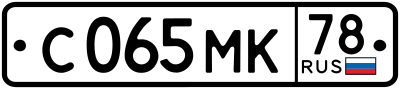number_plate: (7, 2, 393, 85)
